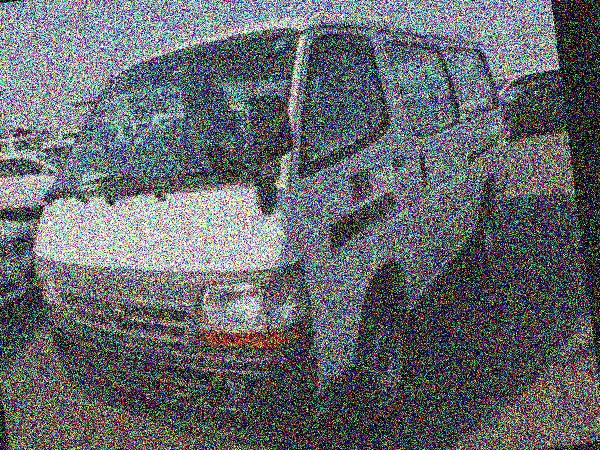van: (5, 0, 546, 450)
